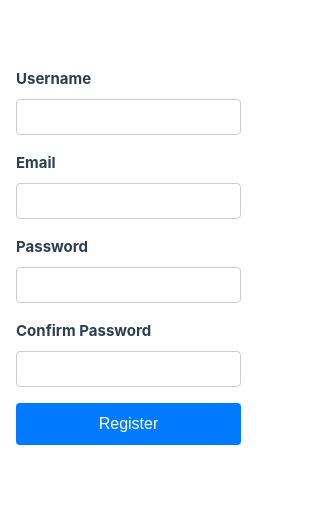
Registration Form Integration Tests › Form State and UI Integration › clears error states when valid data is entered
Note: First trigger errors
Submit the form, box [16, 69, 241, 445]
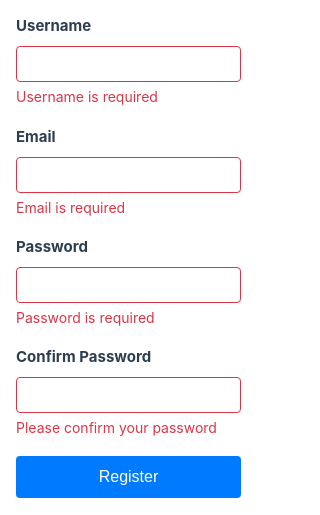
Note: Then fix one field
Type "validuser" into the field with id "username" at [128, 64], box [16, 46, 241, 82]
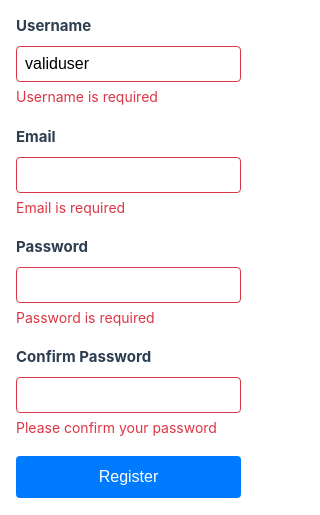
Submit the form
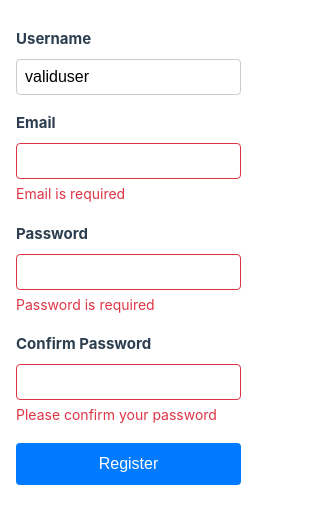
Check: the text "Username is required" is gone
